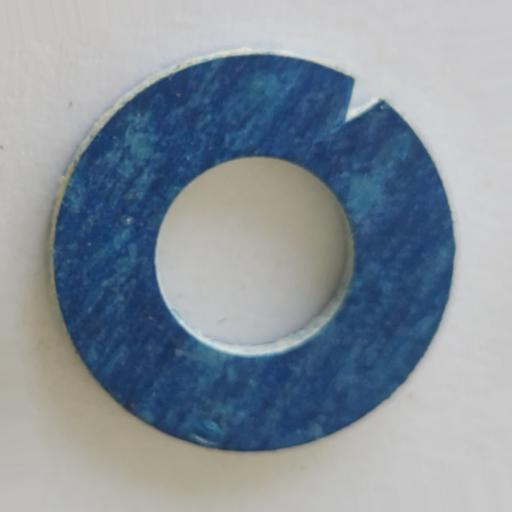defect: (327, 77, 384, 140)
